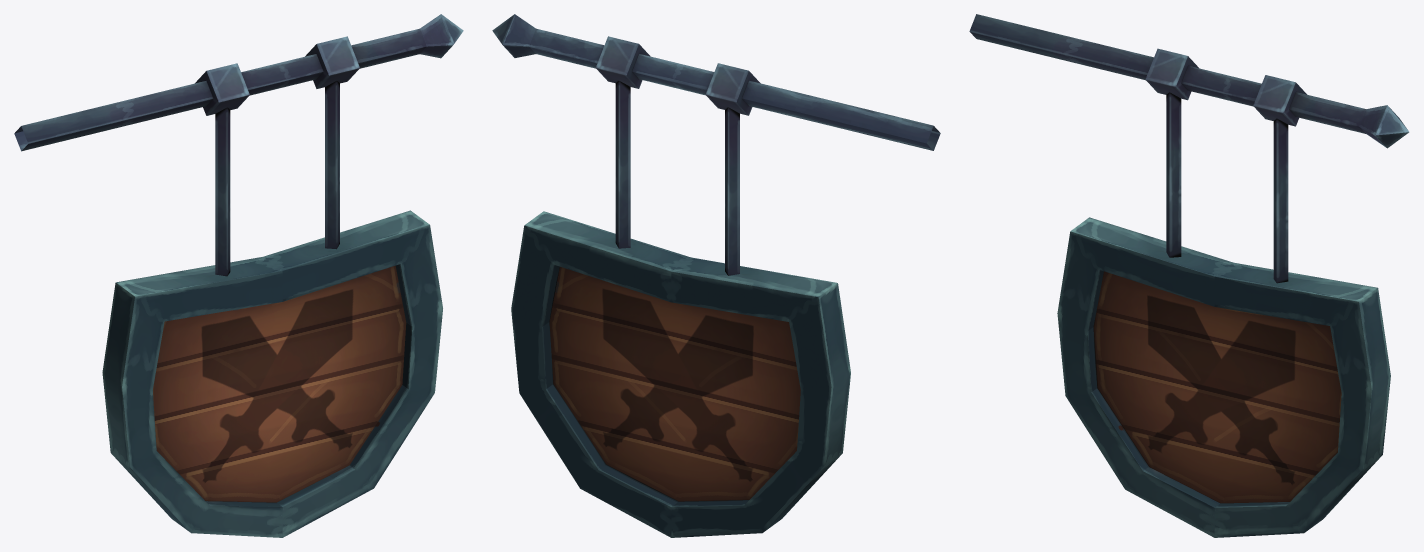
Rendered from building_sign_01.fbx.
The picture shows the model from 3 angles, left to right: view 1: azimuth 30°, elevation 25°; view 2: azimuth 150°, elevation 25°; view 3: azimuth 330°, elevation 25°; orthographic projection. The views are drawn at different scales.
Parts seen in each view (by area): view 1: building_sign_01; view 2: building_sign_01; view 3: building_sign_01.
Part boxes in pixels (bbox=[...]): building_sign_01: bbox=[14, 14, 463, 537]; building_sign_01: bbox=[492, 14, 940, 537]; building_sign_01: bbox=[969, 14, 1409, 537].
Bounding box in the file's own units: 2.43 × 2.5 × 0.2375.
